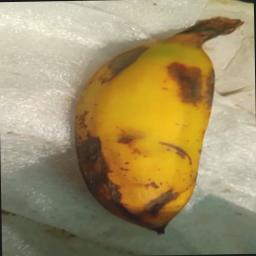Banana Overripe: (66, 14, 247, 236)
